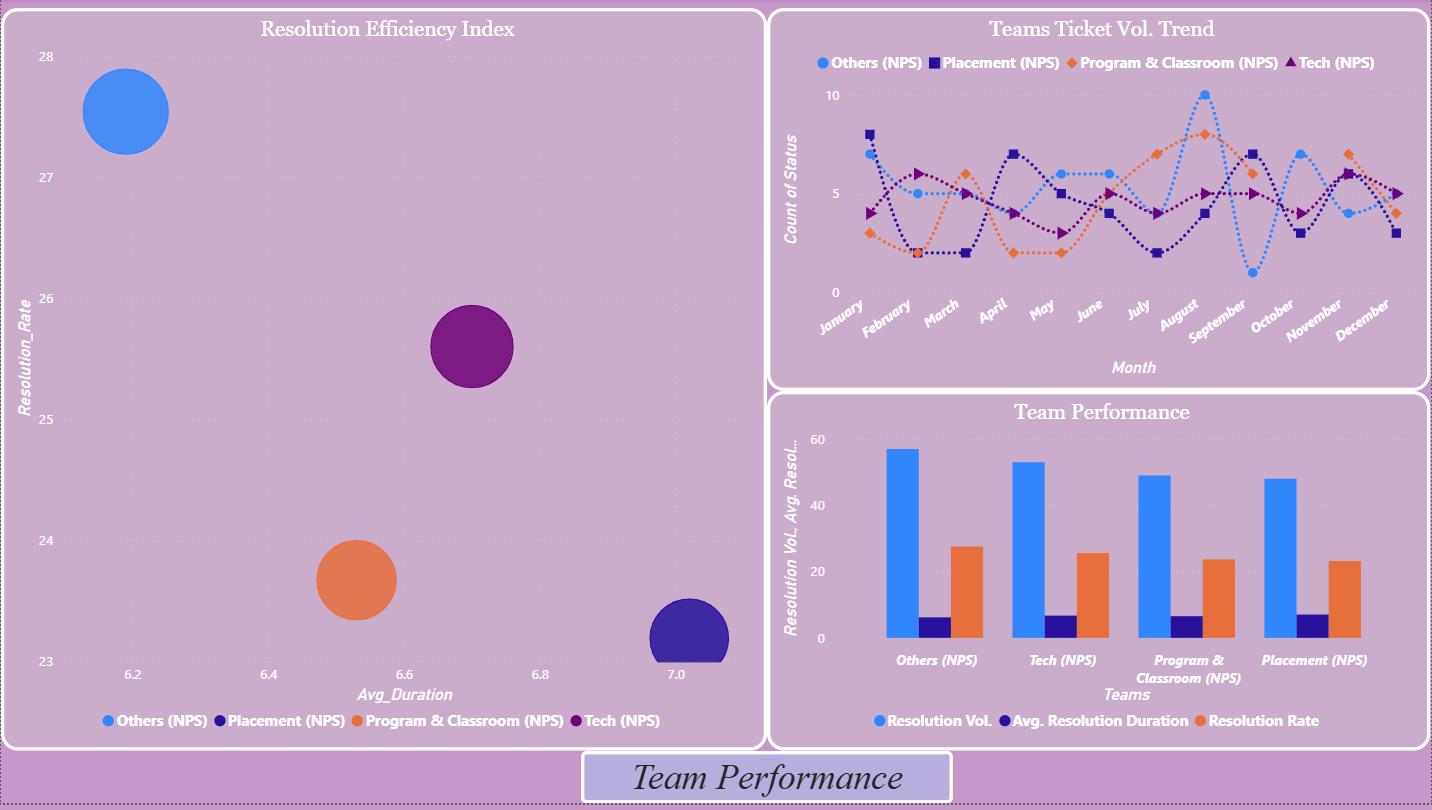

The page's visual inventory and layout, read from the dashboard file:
{"tool":"powerbi","page":{"name":"Team_Performance","canvas":[1280,720],"ordinal":2},"visuals":[{"type":"scatterChart","title":"Resolution Efficiency Index","fields":{"X":["Team_Performance.avg_duration"],"Y":["Team_Performance.resolution_rate"],"Series":["Team_Performance.teams"],"Size":["Sum(Team_Performance.team_resolved_vol)"]},"box":[0,8.1,686,665.4],"z":0},{"type":"clusteredColumnChart","title":"Team Performance","fields":{"Category":["Team_Performance.teams"],"Y":["Sum(Team_Performance.team_resolved_vol)","Sum(Team_Performance.avg_duration)","Sum(Team_Performance.resolution_rate)"]},"box":[686,351,593.7,322.4],"z":1000},{"type":"lineChart","title":"Teams Ticket Vol. Trend ","fields":{"Series":["Sheet1.Disposition Folder Level 2"],"Y":["CountNonNull(Sheet1.Status)"],"Category":["Sheet1.Created Date.Variation.Date Hierarchy.Month"]},"box":[686,8.1,593.7,343],"z":2000},{"type":"textbox","box":[519.4,673.4,333.1,46.6],"z":3000}]}

Visuals, with their boxes in screenshot pixels (x1, y1, x2, y2), scaled from the page's 1280x720 canvas onto the 1432x810 screenshot:
"Resolution Efficiency Index" scatterChart: 0, 9, 767, 758
"Team Performance" clusteredColumnChart: 767, 395, 1431, 758
"Teams Ticket Vol. Trend " lineChart: 767, 9, 1431, 395
textbox: 581, 758, 954, 809
